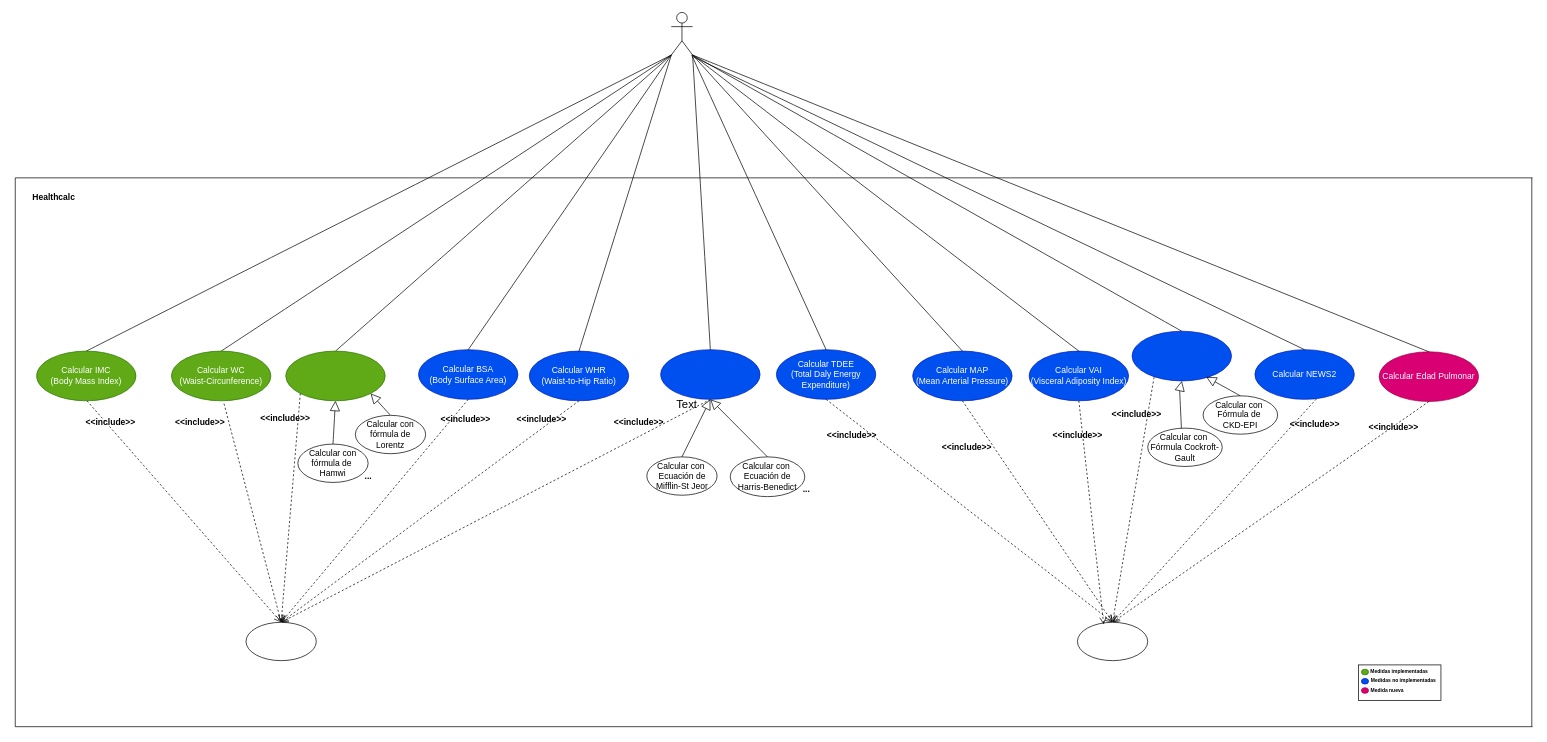
Some shapes in this 1547 by 742 pixel diagram are drawn without their labels. The shapes that lost their labels are listed below. From the top down, each one's centre as x and y in pixels, then its label:
At [682,33]: "Usuario".
At [335,375]: "Calcular IBW (Ideal Body Weight)".
At [710,374]: "Calcular BMR (Basal Metabolic Rate)".
At [1181,356]: "Calcular eGFR (Estimated Glomerular Filtration Rate)".
At [280,641]: "introducir datos biológicos.".
At [1112,641]: "Introducir datos clínicos".
